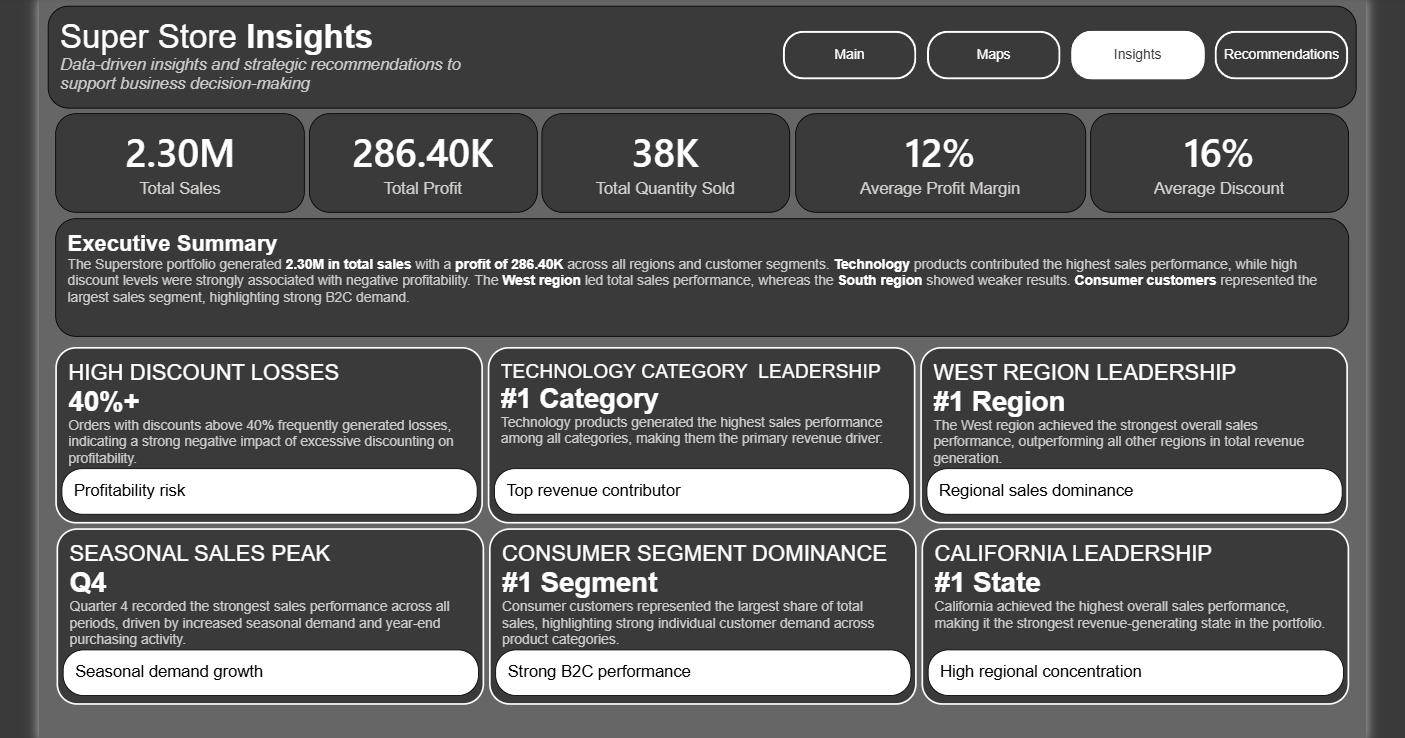

The dashboard page shown, as its layout file describes it:
{"tool":"powerbi","page":{"name":"Insights","canvas":[1280,720],"ordinal":2},"visuals":[{"type":"textbox","box":[8.4,8.4,1263.1,98.9],"z":0},{"type":"cardVisual","fields":{"Data":["Sum(Working Area.Sales)"]},"box":[16,112,241.1,96],"z":0,"group":"g1"},{"type":"pageNavigator","box":[717.8,32.6,546.5,47.1],"z":1000},{"type":"group","id":"g1","title":"Group 1","box":[16,112,1248,96],"z":2000},{"type":"cardVisual","fields":{"Data":["Sum(Working Area.Profit)"]},"box":[261.2,112,220.6,96],"z":2000,"group":"g1"},{"type":"cardVisual","fields":{"Data":["Sum(Working Area.Quantity)"]},"box":[485.9,112,239.7,96],"z":3000,"group":"g1"},{"type":"textbox","box":[15.7,213.5,1248.7,114.6],"z":3000},{"type":"cardVisual","fields":{"Data":["Avg(Working Area.Profit Margin)"]},"box":[729.7,112,280.8,96],"z":4000,"group":"g1"},{"type":"group","id":"g2","title":"Group 2","box":[15.7,338.1,1247.5,170.1],"z":4000,"group":"g4"},{"type":"group","id":"g3","title":"Group 2","box":[16.9,512.7,1247.5,170.1],"z":4000,"group":"g5"},{"type":"cardVisual","fields":{"Data":["Avg(Working Area.Discount)"]},"box":[1014.7,112,249.3,96],"z":5000,"group":"g1"},{"type":"textbox","box":[15.7,338.1,412.6,170.1],"z":5000,"group":"g2"},{"type":"textbox","box":[21.7,455.1,401.7,44.6],"z":5000,"group":"g4"},{"type":"textbox","box":[16.9,512.7,412.6,170.1],"z":5000,"group":"g3"},{"type":"textbox","box":[22.9,629.7,401.7,44.6],"z":5000,"group":"g5"},{"type":"textbox","box":[433.1,338.1,412.6,170.1],"z":6000,"group":"g2"},{"type":"textbox","box":[439.2,455.1,401.7,44.6],"z":6000,"group":"g4"},{"type":"textbox","box":[434.3,512.7,412.6,170.1],"z":6000,"group":"g3"},{"type":"textbox","box":[440.4,629.7,401.7,44.6],"z":6000,"group":"g5"},{"type":"textbox","box":[850.6,338.1,412.6,170.1],"z":7000,"group":"g2"},{"type":"textbox","box":[856.6,455.1,401.7,44.6],"z":7000,"group":"g4"},{"type":"textbox","box":[851.8,512.7,412.6,170.1],"z":7000,"group":"g3"},{"type":"textbox","box":[857.8,629.7,401.7,44.6],"z":7000,"group":"g5"},{"type":"group","id":"g4","title":"Group 3","box":[15.7,338.1,1247.5,170.1],"z":7001},{"type":"group","id":"g5","title":"Group 3","box":[16.9,512.7,1247.5,170.1],"z":7002}]}

Visuals, with their boxes on the page's 1280x720 design canvas (x1, y1, x2, y2). These are canvas units, not pixel positions in the 1405x738 screenshot, which may show the page scaled, cropped or inside an application window:
textbox: 8:8:1272:107
cardVisual - Sum(Working Area.Sales): 16:112:257:208
pageNavigator: 718:33:1264:80
"Group 1" group: 16:112:1264:208
cardVisual - Sum(Working Area.Profit): 261:112:482:208
cardVisual - Sum(Working Area.Quantity): 486:112:726:208
textbox: 16:214:1264:328
cardVisual - Avg(Working Area.Profit Margin): 730:112:1010:208
"Group 2" group: 16:338:1263:508
"Group 2" group: 17:513:1264:683
cardVisual - Avg(Working Area.Discount): 1015:112:1264:208
textbox: 16:338:428:508
textbox: 22:455:423:500
textbox: 17:513:430:683
textbox: 23:630:425:674
textbox: 433:338:846:508
textbox: 439:455:841:500
textbox: 434:513:847:683
textbox: 440:630:842:674
textbox: 851:338:1263:508
textbox: 857:455:1258:500
textbox: 852:513:1264:683
textbox: 858:630:1260:674
"Group 3" group: 16:338:1263:508
"Group 3" group: 17:513:1264:683
